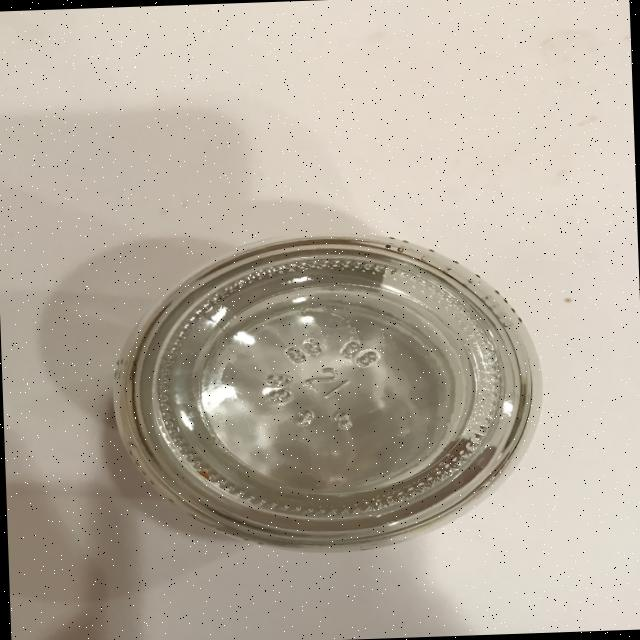glass: (107, 226, 548, 560)
